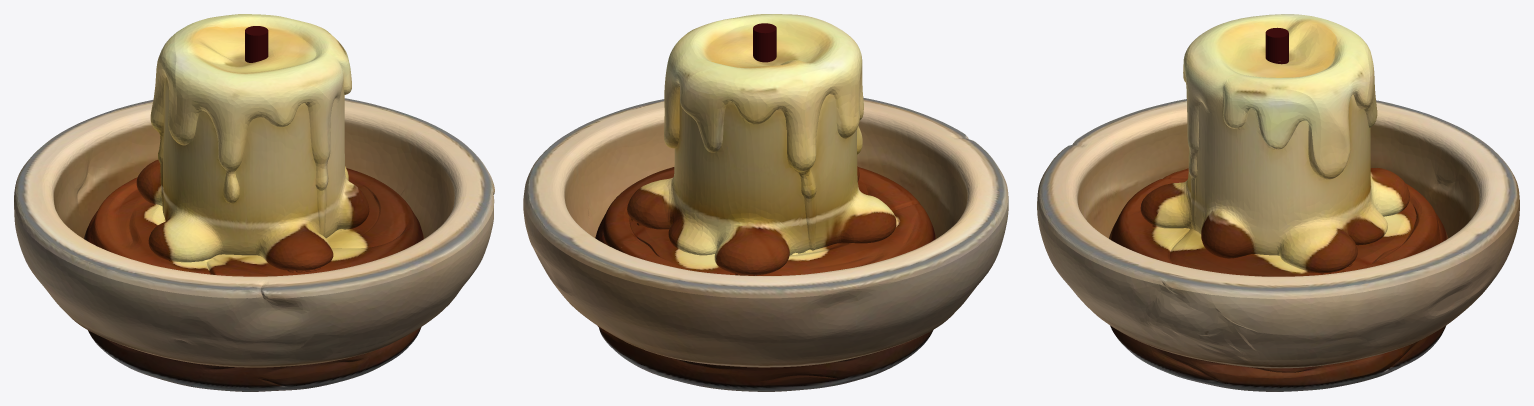
File: candle_3.glb
3 views of the same model, side by side, from view 1: azimuth 30°, elevation 25°; view 2: azimuth 150°, elevation 25°; view 3: azimuth 270°, elevation 25° (orthographic).
Parts seen in each view (by area): view 1: tripo_node_7e45b381-e601-4a4a-a3fc-c7f5f4f3f91a, Cylinder.002; view 2: tripo_node_7e45b381-e601-4a4a-a3fc-c7f5f4f3f91a, Cylinder.002; view 3: tripo_node_7e45b381-e601-4a4a-a3fc-c7f5f4f3f91a, Cylinder.002.
Part boxes in pixels (x1,y1,x2,y2): tripo_node_7e45b381-e601-4a4a-a3fc-c7f5f4f3f91a: [14, 14, 494, 391]; Cylinder.002: [245, 26, 268, 62]; tripo_node_7e45b381-e601-4a4a-a3fc-c7f5f4f3f91a: [523, 14, 1008, 391]; Cylinder.002: [753, 23, 776, 62]; tripo_node_7e45b381-e601-4a4a-a3fc-c7f5f4f3f91a: [1037, 14, 1519, 391]; Cylinder.002: [1265, 27, 1288, 64].
Bounding box in the file's own units: 0.9801 × 0.6569 × 0.9804.
Materials: 2 (1 with a texture image).
